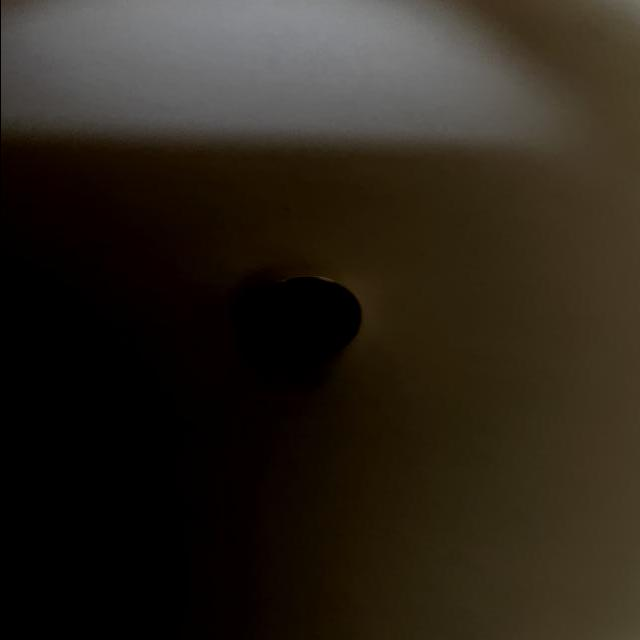COIN: (252, 274, 362, 356)
